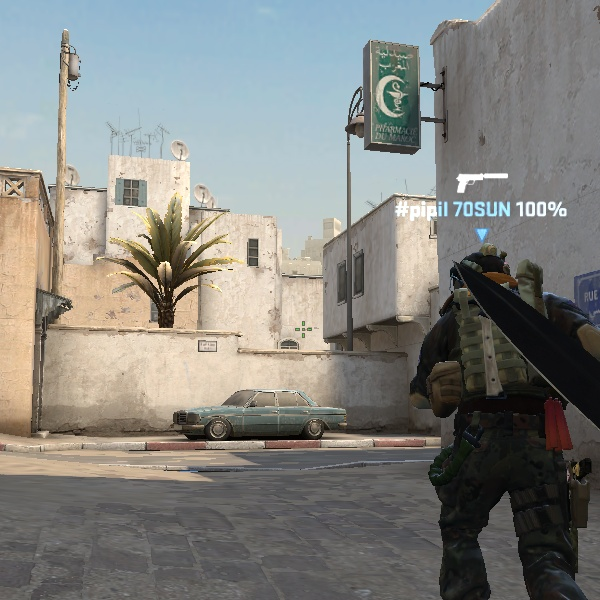ct_body: (377, 249, 593, 597)
ct_head: (446, 242, 542, 329)
